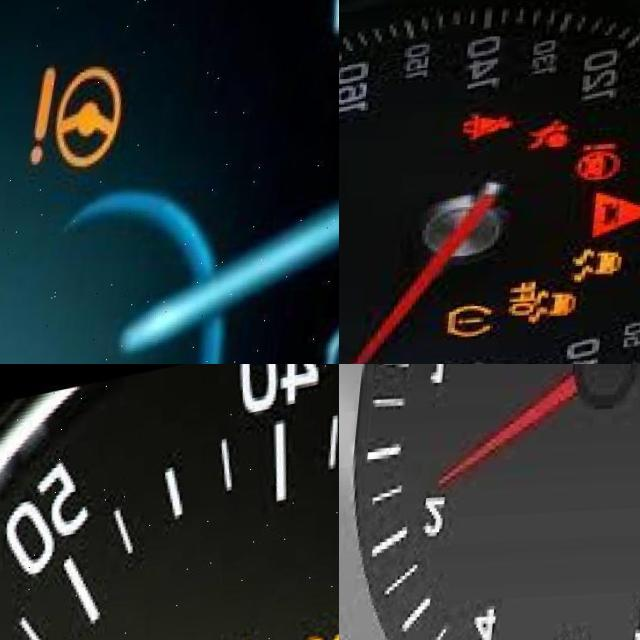Electronic Power Steering: (578, 145, 630, 188)
Electronic Power Steering Warning: (31, 66, 124, 178)
Seat Belt: (464, 114, 519, 144)
